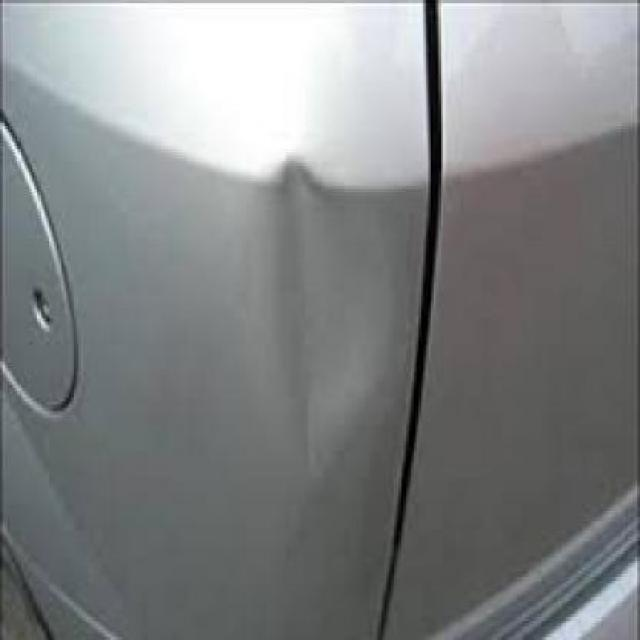dent: (272, 160, 389, 478)
